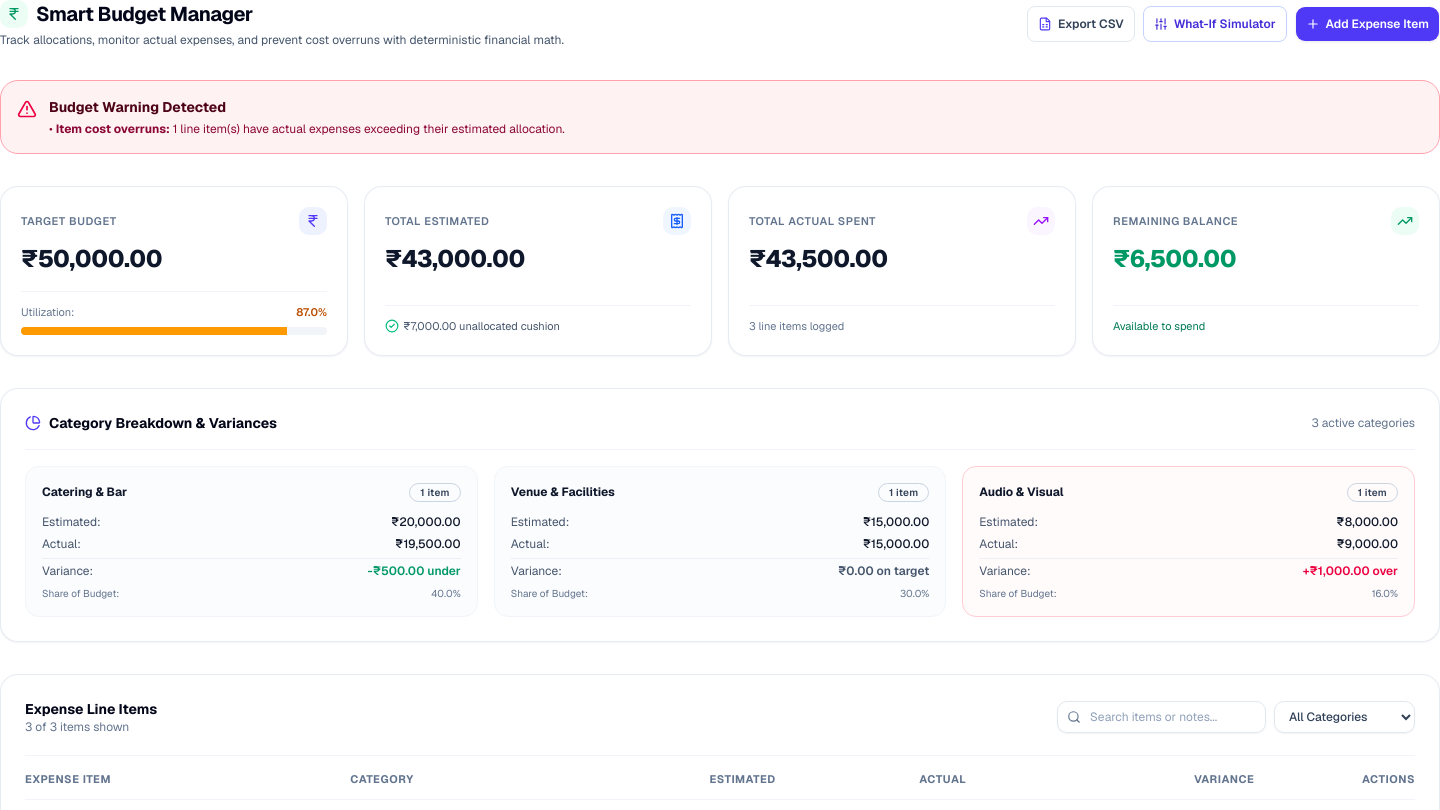
Test: BudgetManager Component › filters budget items interactively using search input
In the field named "search budget items": (1162,717) x1=1057 y1=701 x2=1266 y2=733, type "Ballroom"
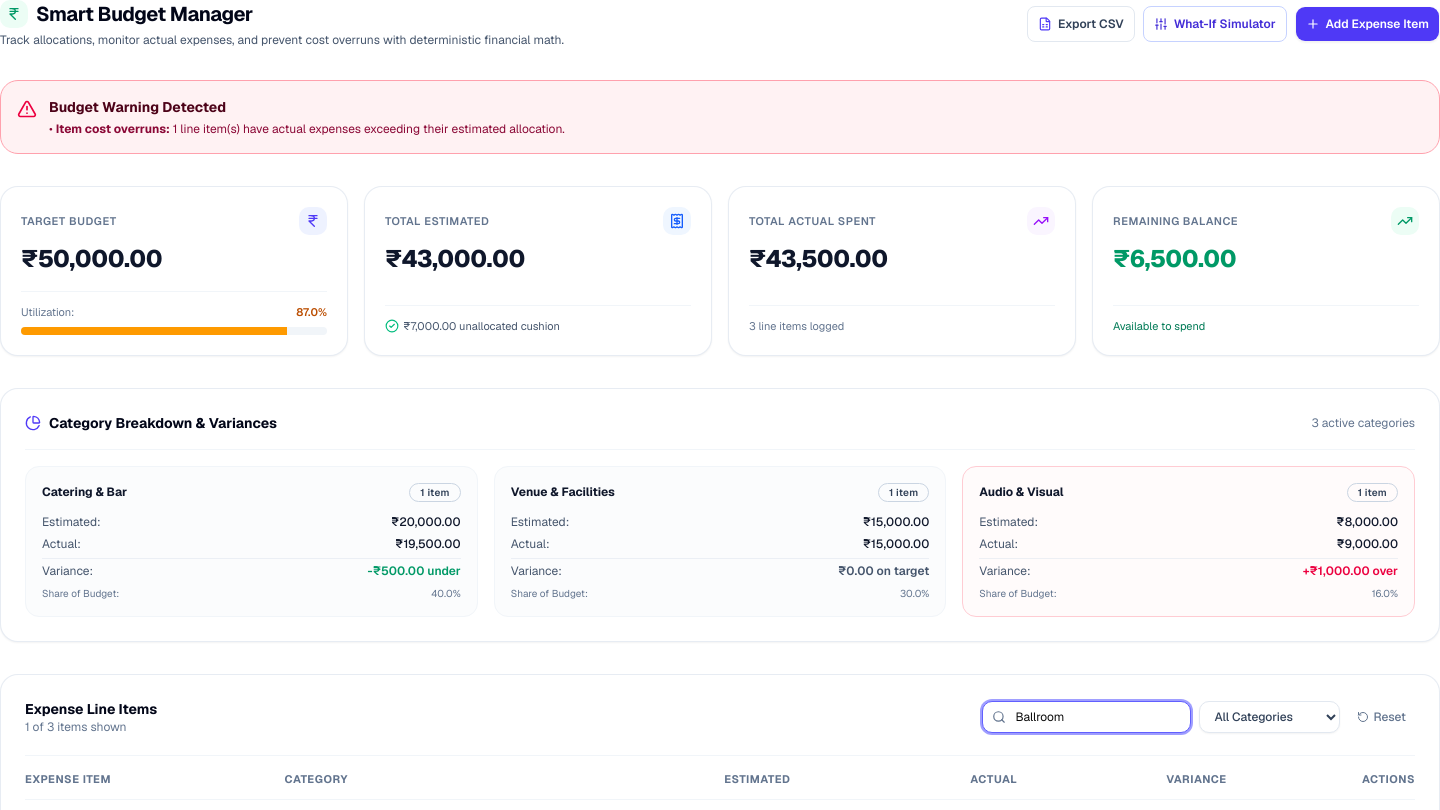
expect the text "Artisan Buffet Banquet" is not shown: met
expect the text "Sound System & Lighting" is not shown: met
Note: Reset via reset button
Click the button titled "Reset filters": (1382,717) x1=1348 y1=701 x2=1415 y2=733
(page scrolled)
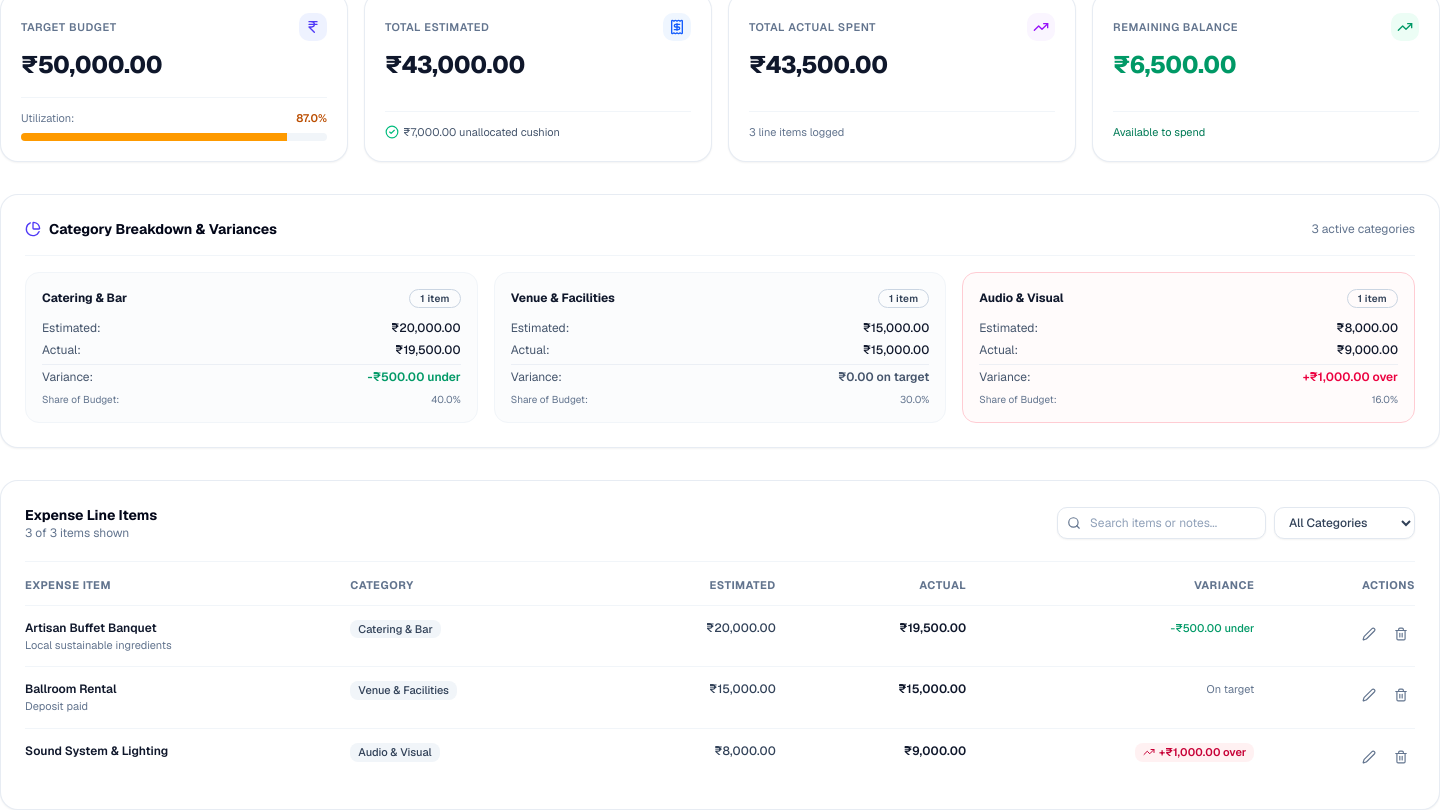
expect the text "Ballroom Rental" is shown: met, box x1=25 y1=682 x2=116 y2=698
expect the text "Artisan Buffet Banquet" is shown: met, box x1=25 y1=620 x2=156 y2=636
expect the text "Sound System & Lighting" is shown: met, box x1=25 y1=743 x2=168 y2=759
